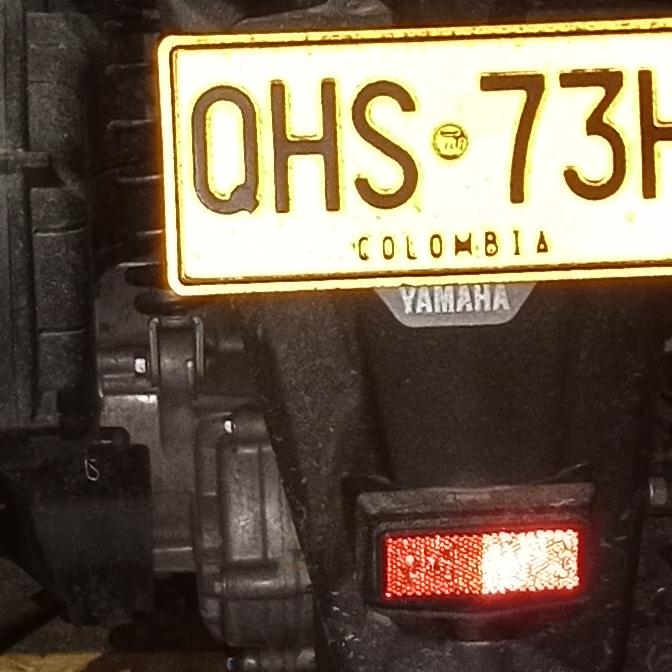plates: (157, 25, 672, 303)
